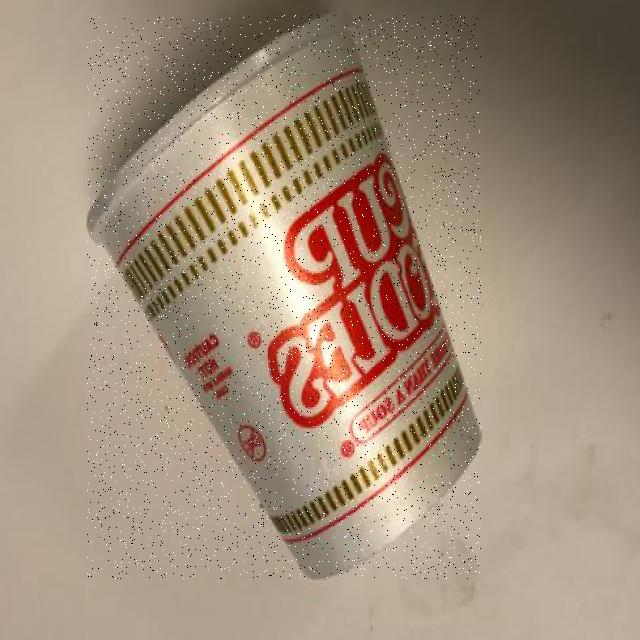paper: (87, 15, 481, 579)
